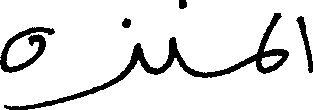ا: (295, 13, 311, 73)
ز: (75, 16, 140, 99)
ل: (255, 10, 272, 61)
م: (250, 44, 293, 82)
ن: (164, 0, 186, 72)
ه: (0, 25, 45, 88)
